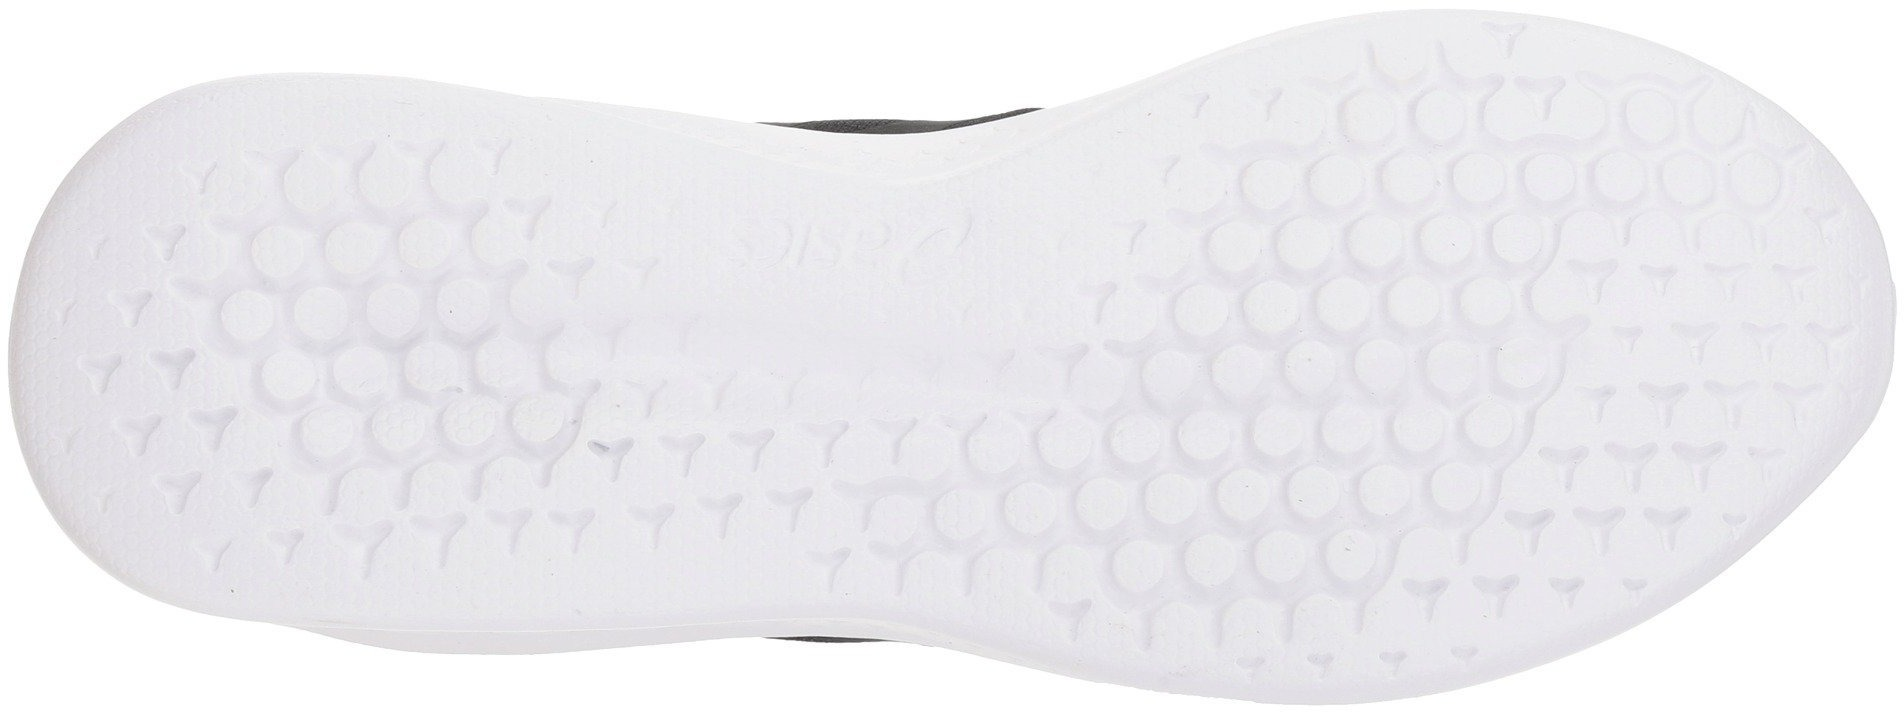circle: (245, 149, 562, 496), (1215, 106, 1506, 406), (1523, 111, 1801, 385), (1004, 352, 1212, 569), (1234, 414, 1385, 584)
exclude: (263, 614, 1073, 693)
star: (590, 322, 799, 553), (46, 329, 244, 533), (810, 406, 988, 600), (1528, 435, 1704, 597)
text: (763, 190, 903, 300)
